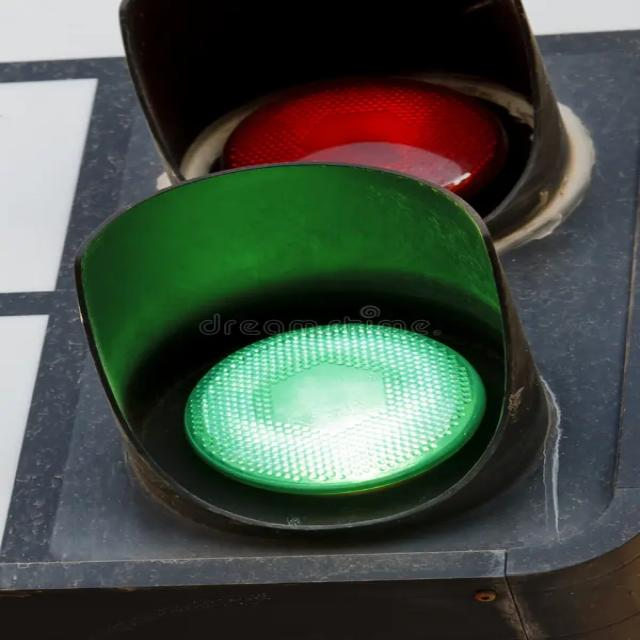green: (120, 288, 545, 527)
